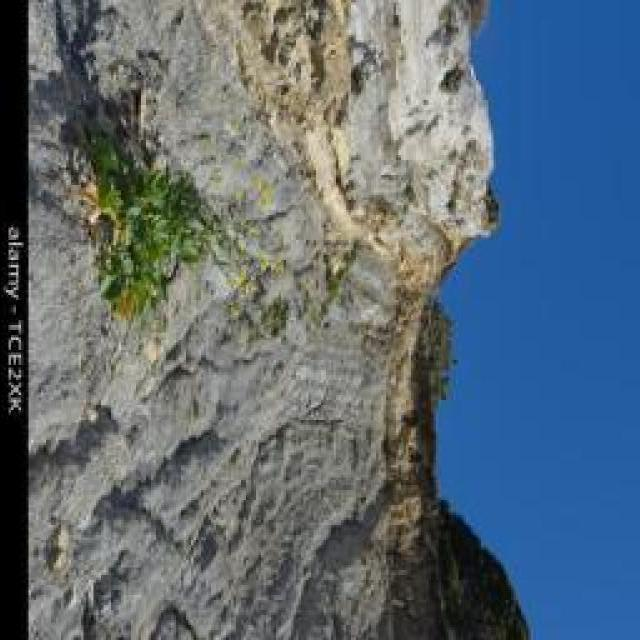crack: (27, 0, 525, 638)
vegetation: (108, 103, 221, 325)
